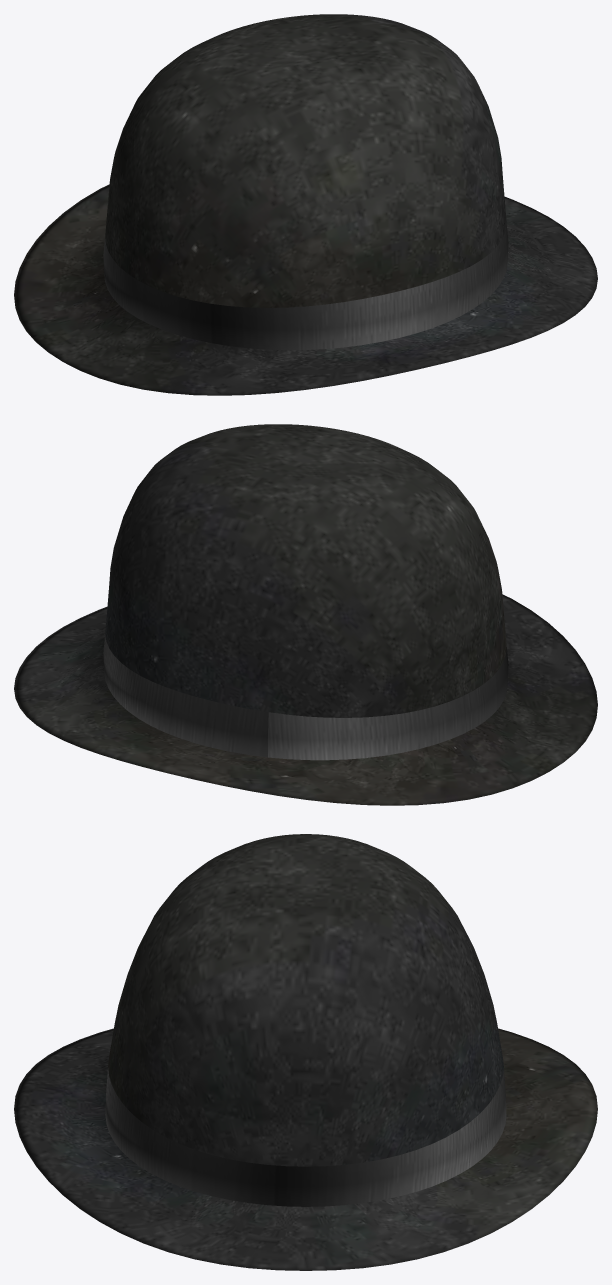
The model's file is ropa_bowler_hat.glb.
3 renders of one model, top to bottom at view 1: azimuth 30°, elevation 25°; view 2: azimuth 150°, elevation 25°; view 3: azimuth 270°, elevation 25°, orthographic. The views are drawn at different scales.
Visible parts, largest first — view 1: Hat_0; view 2: Hat_0; view 3: Hat_0.
Part boxes in pixels (x1,y1,x2,y2): Hat_0: (14,14,597,395); Hat_0: (14,424,597,805); Hat_0: (14,834,597,1270).
Size of the model in its own units: 0.2875 by 0.13 by 0.2649.
Materials: 3 (3 with a texture image).
